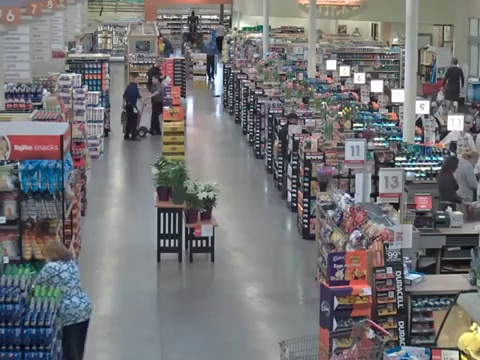face: (151, 76, 157, 84), (135, 76, 140, 83)
